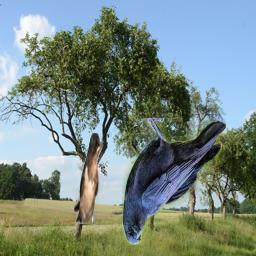Crow: (122, 118, 226, 245)
Swallow: (74, 133, 103, 224)
